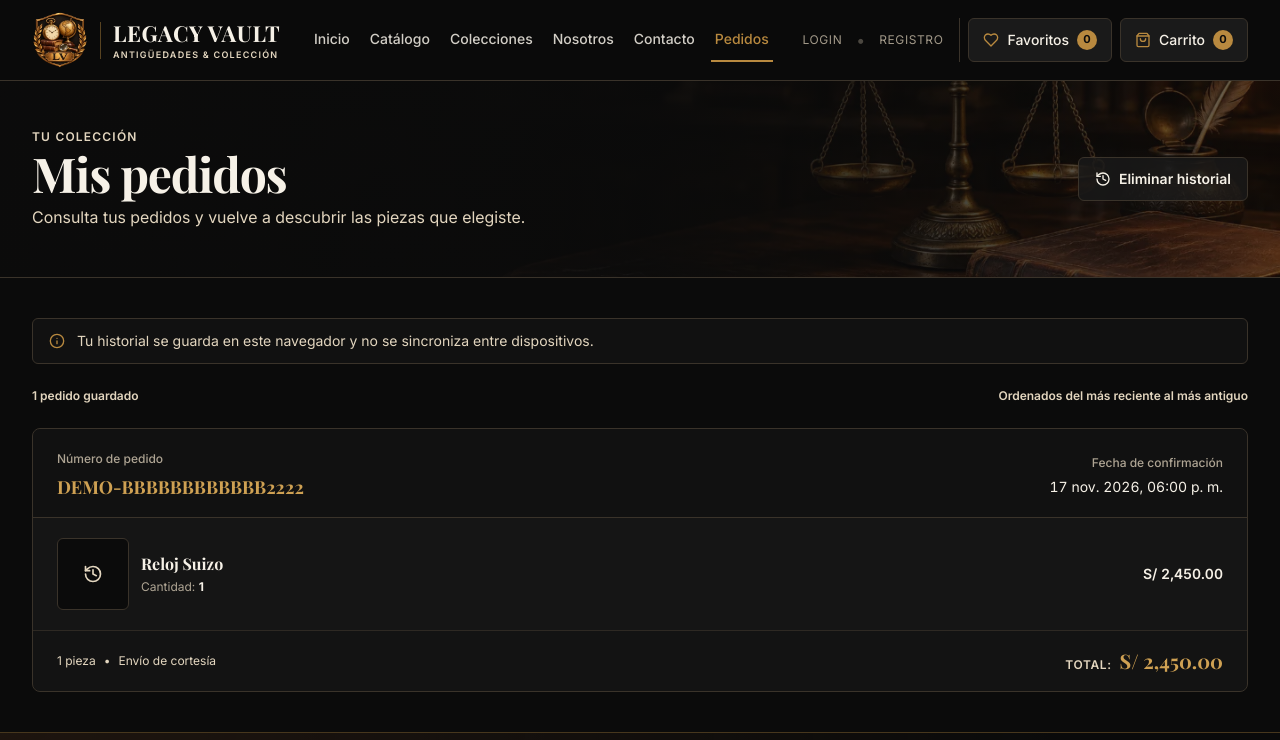
Historial de pedidos simulados (OrdersPage & Checkout) › elimina el historial tras confirmación y anuncia el cambio accesiblemente
Click the button "Eliminar historial" at {"x": 1163, "y": 179}, box [1078, 157, 1248, 201]
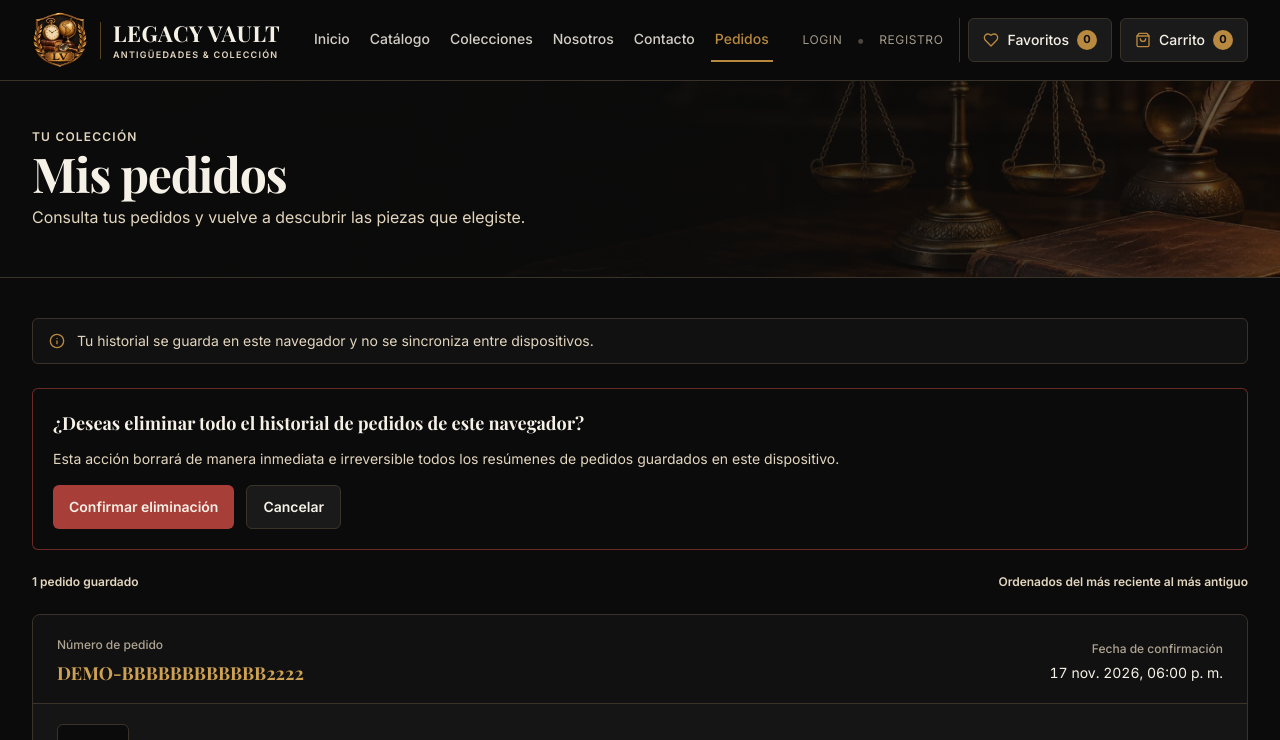
Click the button "Confirmar eliminación" at {"x": 144, "y": 507}, box [53, 485, 234, 529]
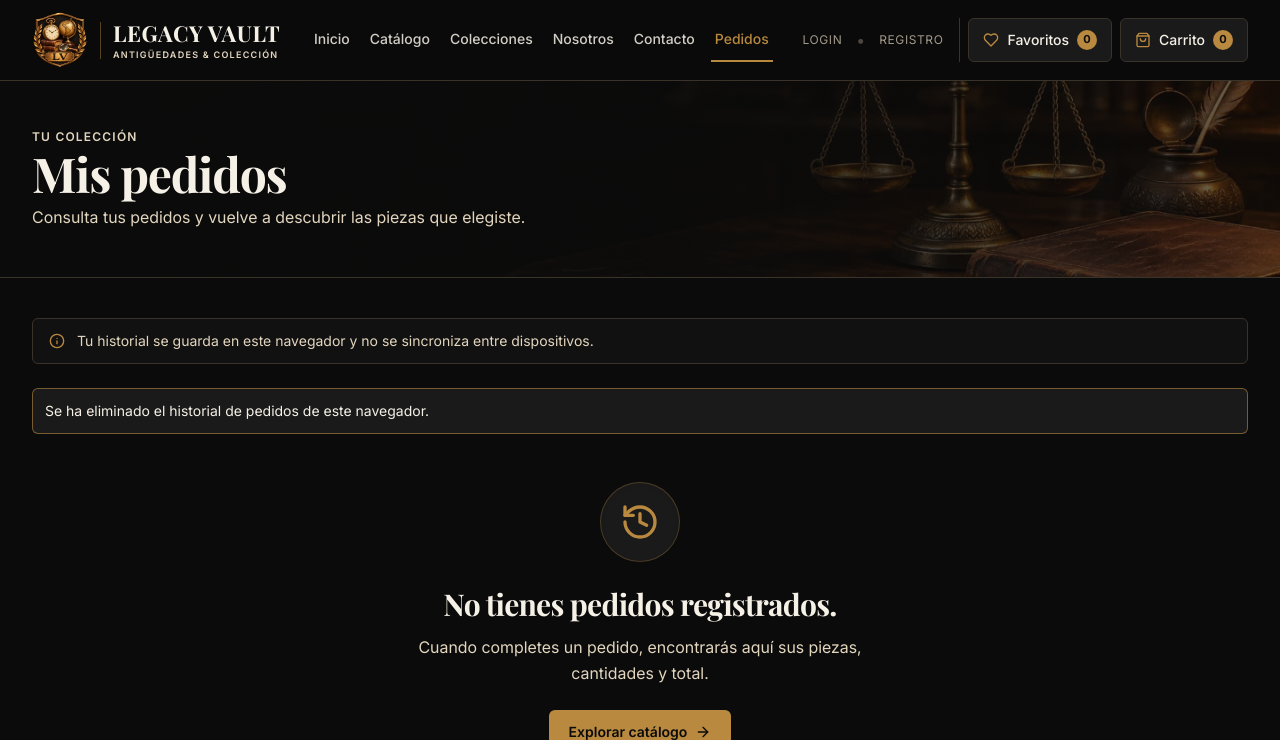
Check: the heading "No tienes pedidos registrados." is shown, box [443, 586, 837, 622]
Check: the text "Se ha eliminado el historial de pedidos de este navegador." is shown, box [32, 388, 1248, 434]
